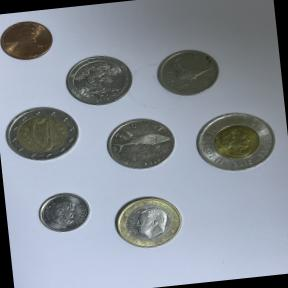1 Euro-B: (106, 190, 191, 257)
2 Euro-B: (0, 101, 85, 170)
Canada-10cent-B: (33, 188, 95, 240)
Canada-2Dollar-B: (188, 104, 283, 182)
Croatia-2Kune-B: (99, 111, 182, 178)
US-1cent-B: (0, 13, 61, 69)
US-25cent-B: (60, 48, 142, 112)
